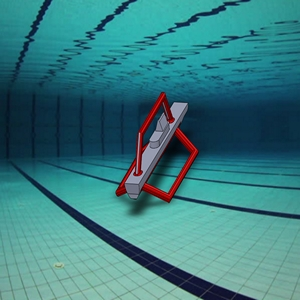submarine: (112, 86, 211, 209)
